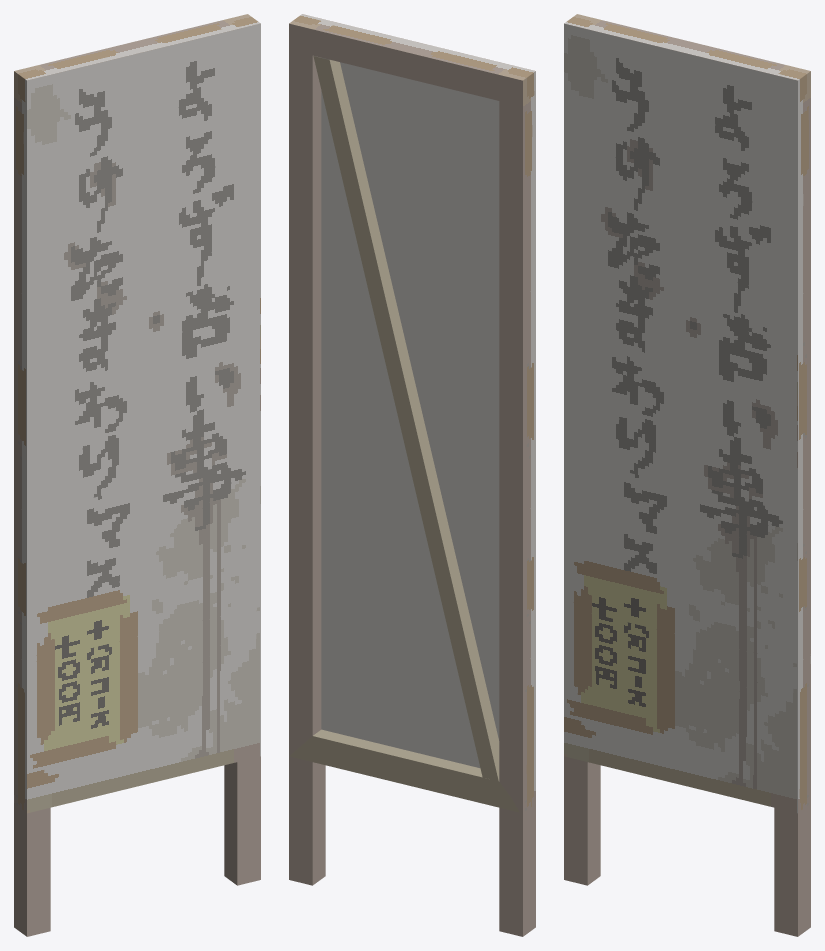
The model's file is 0504_Palmistry_Sign.glb.
3 views of the same model, side by side, from view 1: azimuth 30°, elevation 25°; view 2: azimuth 150°, elevation 25°; view 3: azimuth 330°, elevation 25° (orthographic).
Parts seen in each view (by area): view 1: part_0; view 2: part_0; view 3: part_0.
Part boxes in pixels (left/top/right/bottom): part_0: left=14, top=14, right=260, bottom=936; part_0: left=289, top=14, right=535, bottom=936; part_0: left=564, top=14, right=810, bottom=936.
Size of the model in its own units: 0.4206 by 1.47 by 0.0411.
Materials: 1 (1 with a texture image).
